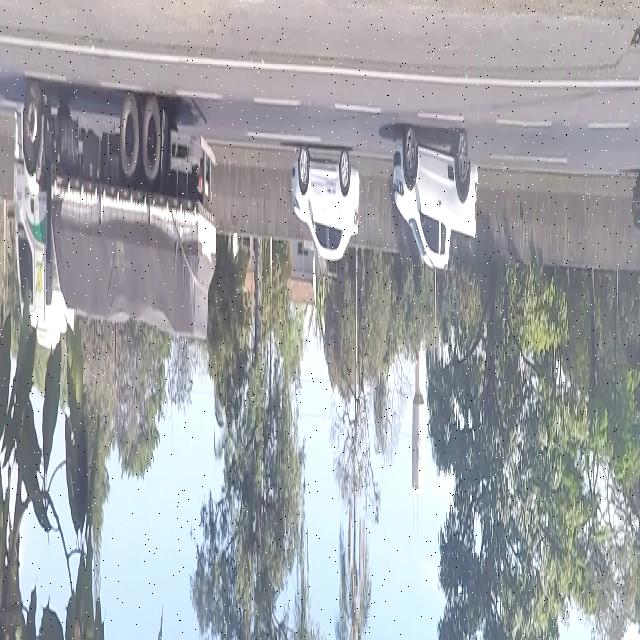-axle: (143, 80, 165, 199), (19, 70, 42, 164), (120, 96, 140, 185)
